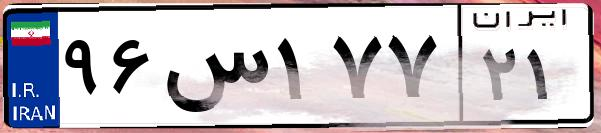1: (270, 28, 330, 110), (525, 38, 570, 115)
2: (475, 38, 525, 113)
6: (110, 28, 158, 98)
7: (385, 28, 445, 110), (330, 28, 385, 110)
9: (57, 26, 110, 100)
س: (158, 20, 270, 120)
